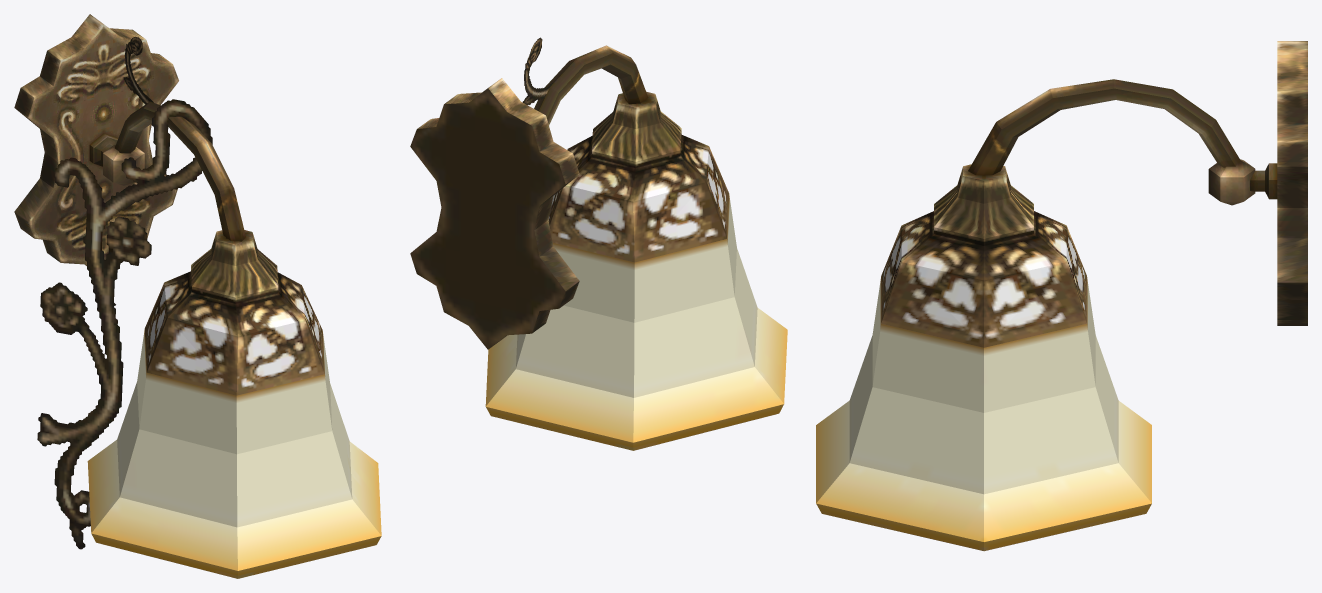
Rendered from furni_0200706.FBX.
The picture shows the model from 3 angles, left to right: view 1: azimuth 30°, elevation 25°; view 2: azimuth 150°, elevation 25°; view 3: azimuth 270°, elevation 25°; orthographic projection. The views are drawn at different scales.
Visible parts, largest first — view 1: furni_0200706; view 2: furni_0200706; view 3: furni_0200706.
Boxes of the visible parts, <box> form: furni_0200706: <box>14,14,381,578</box>; furni_0200706: <box>410,37,787,450</box>; furni_0200706: <box>816,41,1307,551</box>.
Size of the model in its own units: 32.8 by 54.51 by 43.53.
Materials: 1 (1 with a texture image).
